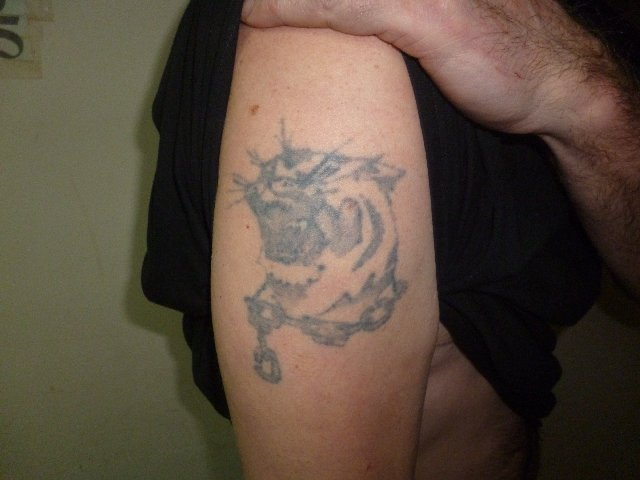tatu5_tigr: (239, 143, 407, 321)
